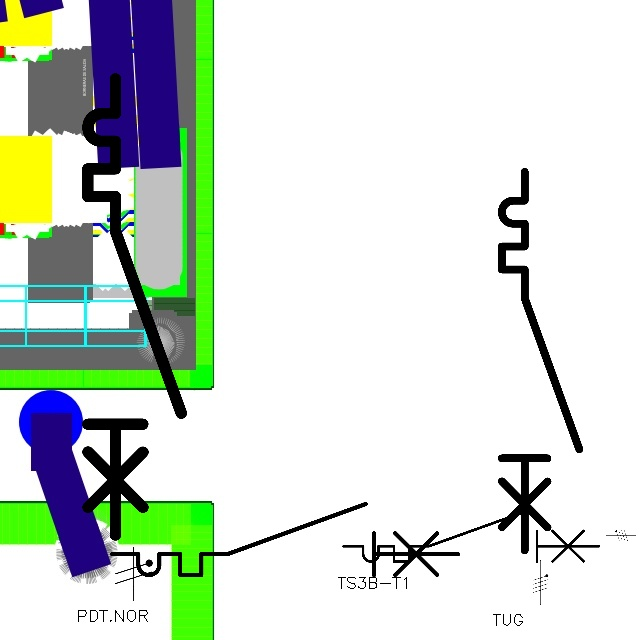interruptor_termomagnetico: (76, 67, 193, 546), (492, 162, 589, 560), (103, 495, 467, 584), (337, 503, 605, 568)
